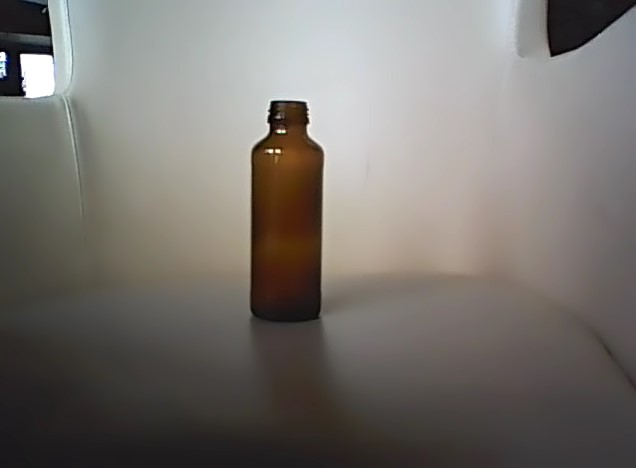Glass: (248, 96, 326, 324)
